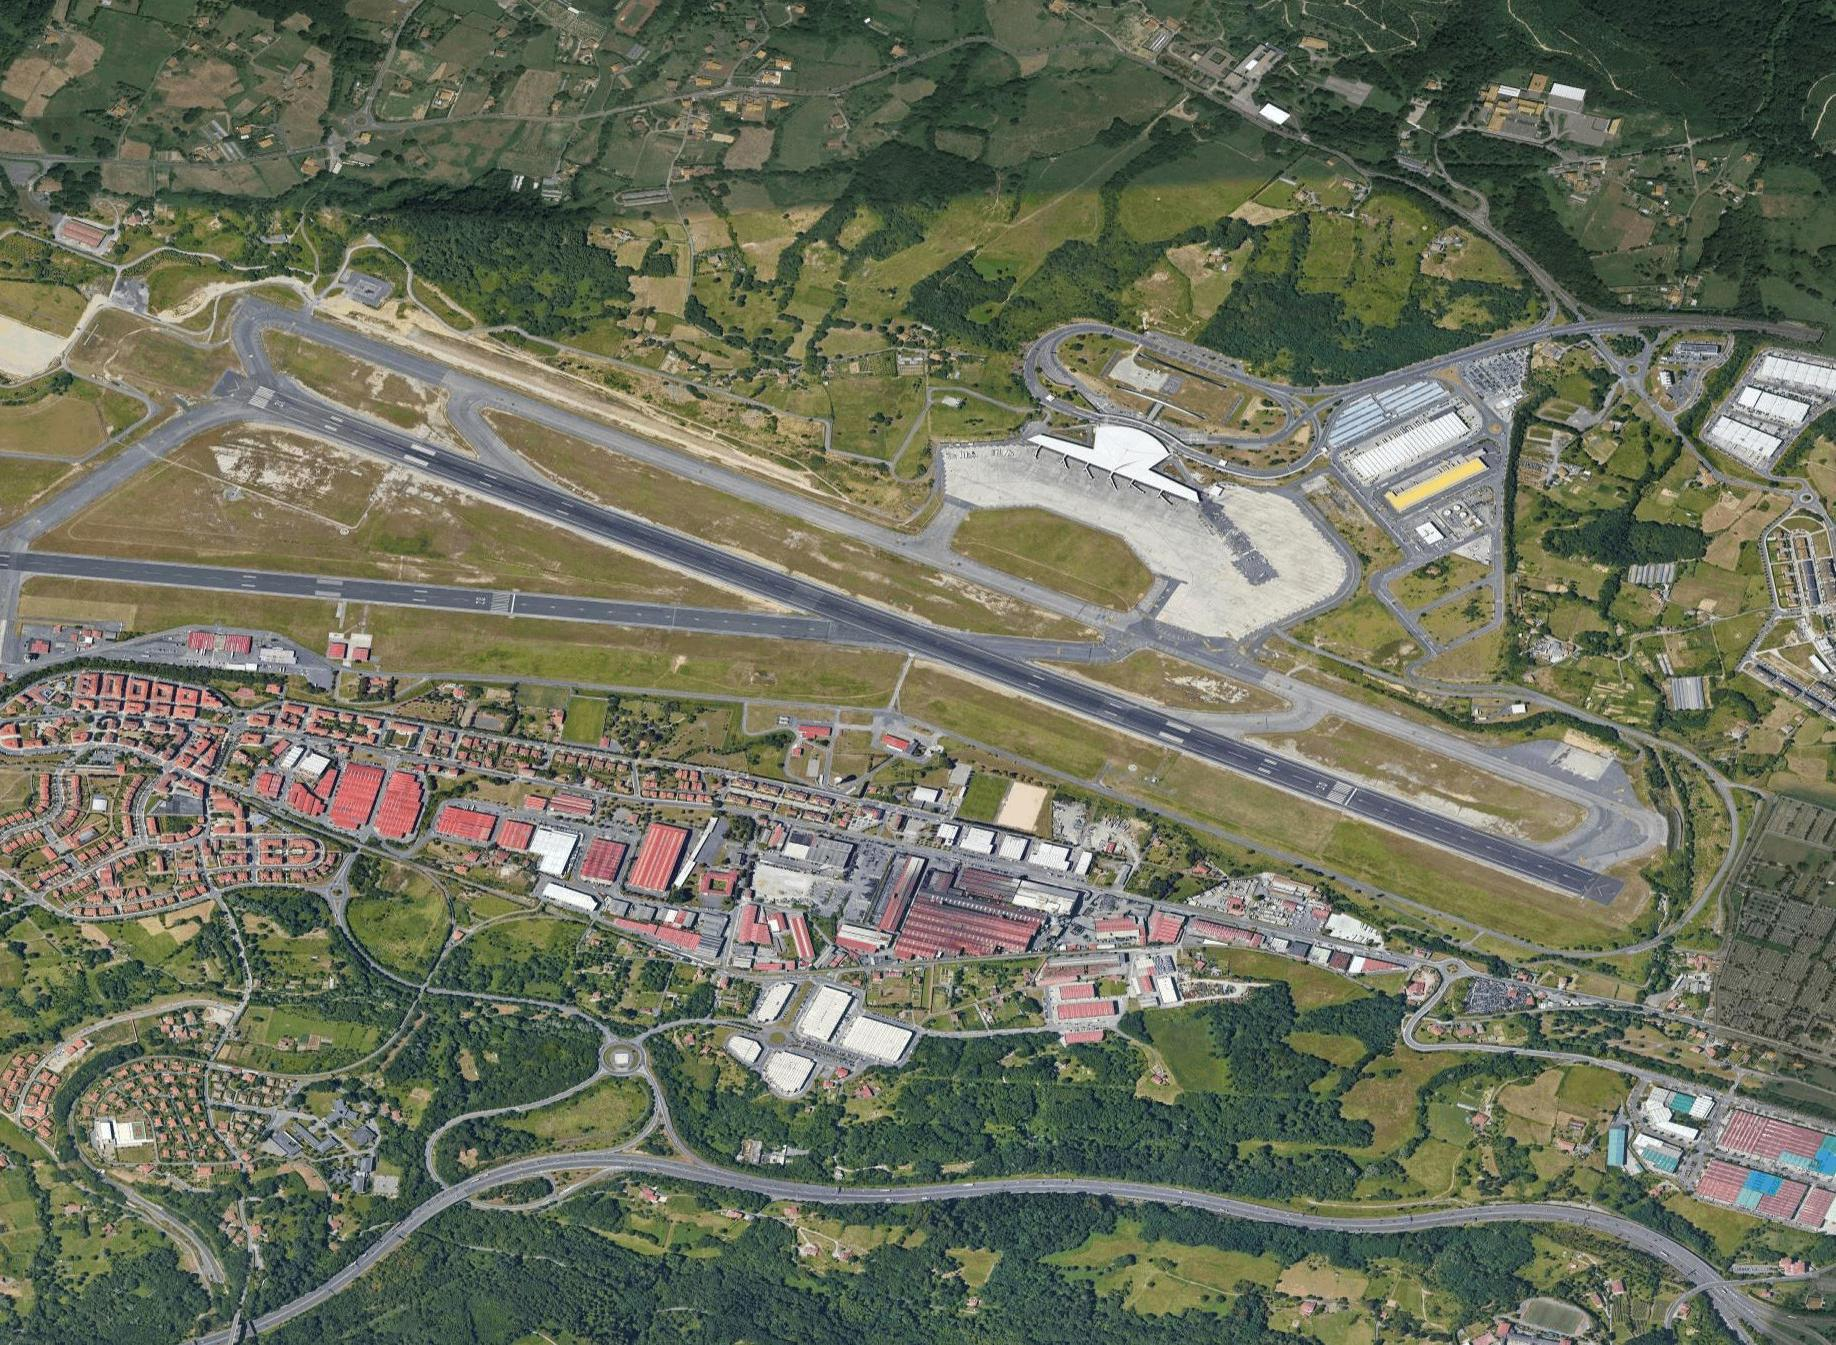airport: (6, 195, 1715, 1067)
motorway: (170, 1133, 629, 1345), (1498, 1175, 1836, 1345), (1068, 1148, 1497, 1245), (630, 1146, 1065, 1212), (1597, 303, 1836, 349), (1428, 318, 1595, 373)
